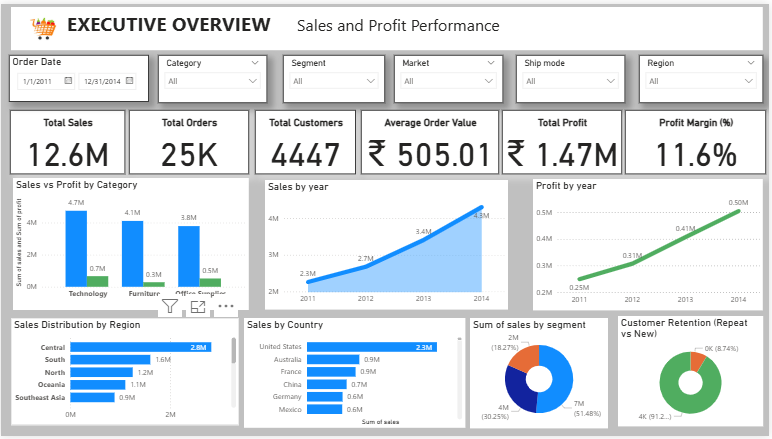

What the dashboard file says about the page in this screenshot:
{"tool":"powerbi","page":{"name":"Page 2","canvas":[1280,720],"ordinal":0},"visuals":[{"type":"card","title":"Total Sales","fields":{"Values":["sales.Total Sales"]},"box":[15,176.7,191.7,106.7],"z":0},{"type":"textbox","box":[16.7,5,1253.3,71.7],"z":1000},{"type":"slicer","title":"Order Date","fields":{"Values":["sales.order_date"]},"box":[13.9,85.1,233.3,78.3],"z":2000},{"type":"slicer","fields":{"Values":["sales.segment"]},"box":[470.6,85.1,170,80],"z":3000},{"type":"slicer","fields":{"Values":["sales.category"]},"box":[262.3,85.1,181.7,80],"z":4000},{"type":"slicer","fields":{"Values":["sales.market"]},"box":[655.6,85.1,181.7,80],"z":5000},{"type":"slicer","fields":{"Values":["sales.ship_mode"]},"box":[858.9,85.1,181.7,80],"z":6000},{"type":"slicer","fields":{"Values":["sales.region"]},"box":[1063.3,85,206.7,80],"z":7000},{"type":"card","title":"Total Orders","fields":{"Values":["sales.Total Orders"]},"box":[213.3,176.7,200,106.7],"z":8000},{"type":"card","title":"Total Customers","fields":{"Values":["sales.repeat Customers"]},"box":[423.3,176.7,168.3,106.7],"z":9000},{"type":"card","title":"Average Order Value","fields":{"Values":["sales.AOV"]},"box":[600,176.7,230,106.7],"z":10000},{"type":"card","title":"Total Profit","fields":{"Values":["sales.Total Profit"]},"box":[835,176.7,200,106.7],"z":11000},{"type":"card","title":"Profit Margin (%)","fields":{"Values":["sales.Profit Margin %"]},"box":[1040,176.7,235,106.7],"z":12000},{"type":"clusteredColumnChart","title":"Sales vs Profit by Category","fields":{"Category":["sales.category"],"Y":["Sum(sales.sales)","Sum(sales.profit)"]},"box":[20.2,289.4,393.1,220.3],"z":13000},{"type":"lineChart","title":"Sales by year","fields":{"Category":["sales.year"],"Y":["Sum(sales.sales)"]},"box":[440.6,293.8,404.6,216],"z":14000},{"type":"lineChart","title":"Profit by year","fields":{"Y":["Sum(sales.profit)"],"Category":["sales.year"]},"box":[887,292.3,383,218.9],"z":15000},{"type":"barChart","title":"Sales Distribution by Region","fields":{"Y":["Sum(sales.sales)"],"Category":["sales.region"]},"box":[17.3,522.7,380.2,178.6],"z":16000},{"type":"barChart","title":"Sales by Country","fields":{"Y":["Sum(sales.sales)"],"Category":["sales.country"]},"box":[404.6,522.7,368.6,182.9],"z":17000},{"type":"pieChart","title":"Customer Retention (Repeat vs New)","fields":{"Y":["sales.New Customers","sales.repeat Customers"]},"box":[1028.2,519.8,241.9,184.3],"z":18000},{"type":"image","box":[23.3,5,93.3,71.7],"z":19000},{"type":"donutChart","fields":{"Y":["Sum(sales.sales)"],"Category":["sales.segment"]},"box":[781.9,522.7,230.4,184.3],"z":20000}]}

Visuals, with their boxes in screenshot pixels (x1, y1, x2, y2), scaled from the page's 1280x720 canvas onto the 772x439 screenshot:
"Total Sales" card: x1=9, y1=108, x2=125, y2=173
textbox: x1=10, y1=3, x2=766, y2=47
"Order Date" slicer: x1=8, y1=52, x2=149, y2=100
slicer - sales.segment: x1=284, y1=52, x2=386, y2=101
slicer - sales.category: x1=158, y1=52, x2=268, y2=101
slicer - sales.market: x1=395, y1=52, x2=505, y2=101
slicer - sales.ship_mode: x1=518, y1=52, x2=628, y2=101
slicer - sales.region: x1=641, y1=52, x2=766, y2=101
"Total Orders" card: x1=129, y1=108, x2=249, y2=173
"Total Customers" card: x1=255, y1=108, x2=357, y2=173
"Average Order Value" card: x1=362, y1=108, x2=501, y2=173
"Total Profit" card: x1=504, y1=108, x2=624, y2=173
"Profit Margin (%)" card: x1=627, y1=108, x2=769, y2=173
"Sales vs Profit by Category" clusteredColumnChart: x1=12, y1=176, x2=249, y2=311
"Sales by year" lineChart: x1=266, y1=179, x2=510, y2=311
"Profit by year" lineChart: x1=535, y1=178, x2=766, y2=312
"Sales Distribution by Region" barChart: x1=10, y1=319, x2=240, y2=428
"Sales by Country" barChart: x1=244, y1=319, x2=466, y2=430
"Customer Retention (Repeat vs New)" pieChart: x1=620, y1=317, x2=766, y2=429
image: x1=14, y1=3, x2=70, y2=47
donutChart - Sum(sales.sales) x sales.segment: x1=472, y1=319, x2=611, y2=431
